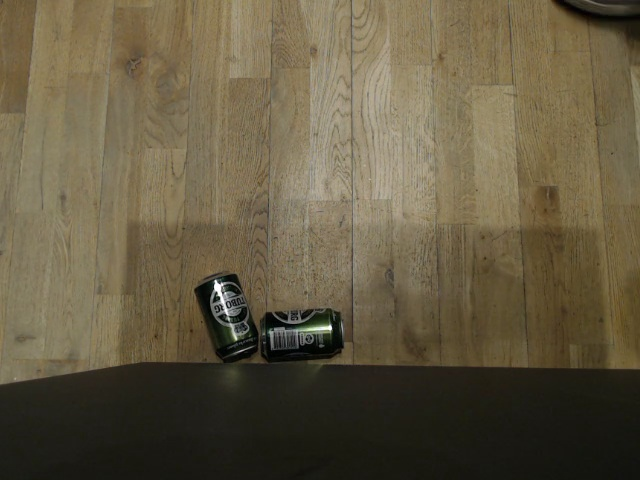beer: (194, 268, 258, 362), (260, 309, 343, 363)
